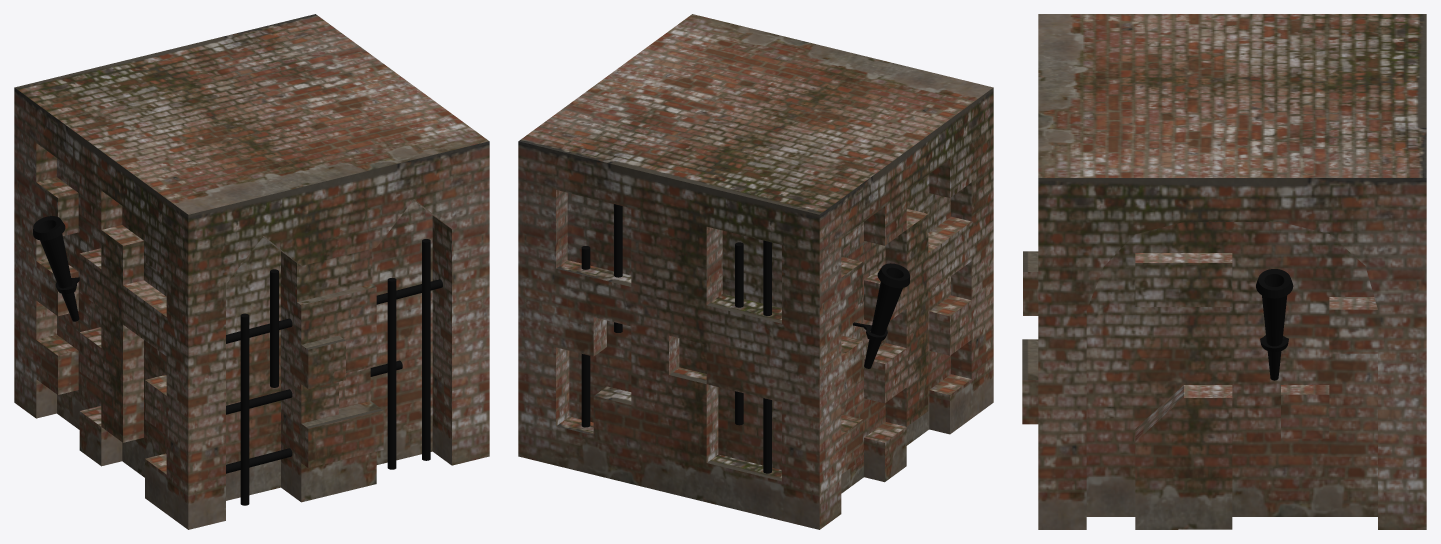
File: Woll-1.fbx
3 views of the same model, side by side, from view 1: azimuth 30°, elevation 25°; view 2: azimuth 150°, elevation 25°; view 3: azimuth 270°, elevation 25° (orthographic). The views are drawn at different scales.
Parts seen in each view (by area): view 1: Cube; view 2: Cube; view 3: Cube.
Boxes of the visible parts, left/top/right/bottom form: Cube: left=14, top=14, right=489, bottom=529; Cube: left=518, top=14, right=993, bottom=529; Cube: left=1022, top=14, right=1426, bottom=529.
Size of the model in its own units: 488 by 400 by 416.
